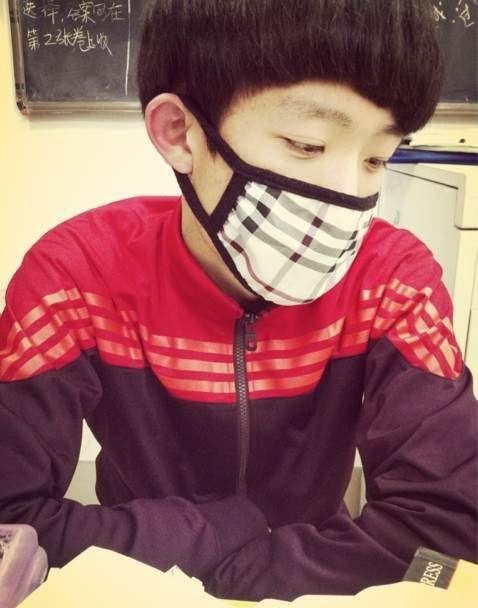OK: (175, 90, 389, 304)
